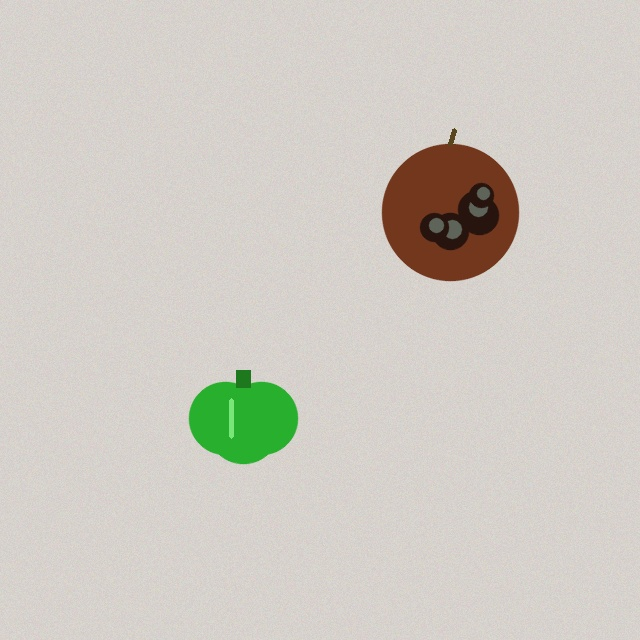Fresh bell pepper: (189, 370, 297, 463)
Rotten apple: (382, 130, 518, 280)
